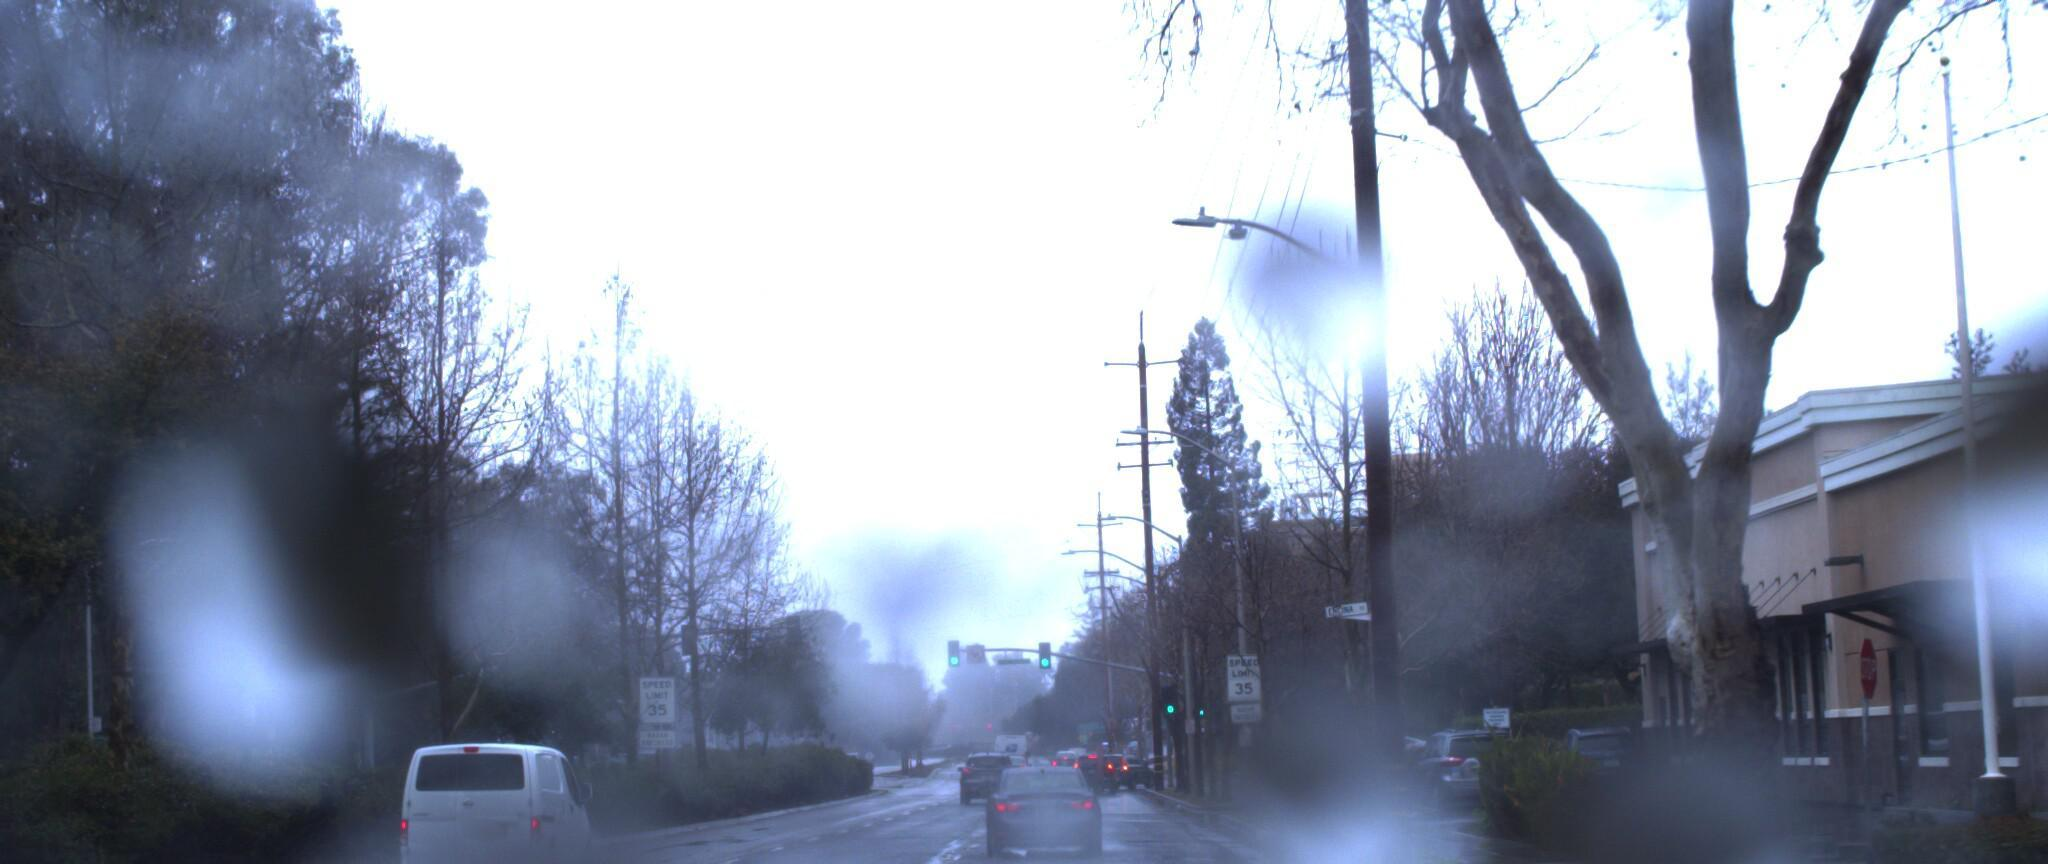car: (387, 723, 601, 864), (969, 760, 1095, 864), (1388, 724, 1516, 813), (1529, 727, 1644, 808)
